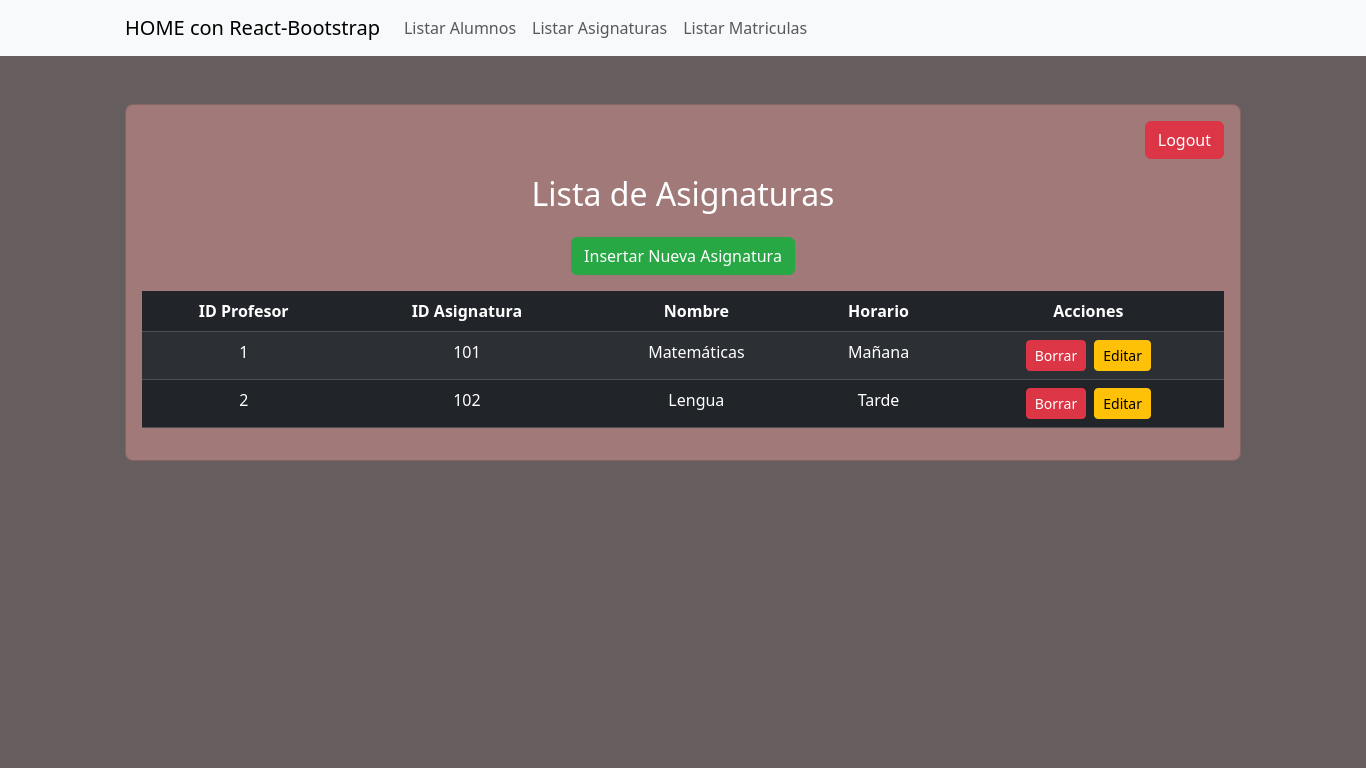
Test case: Asignaturas › permite cancelar el formulario de inserción
Click the button "Insertar Nueva Asignatura".
click(683, 256)  # box left=571, top=237, right=795, bottom=275
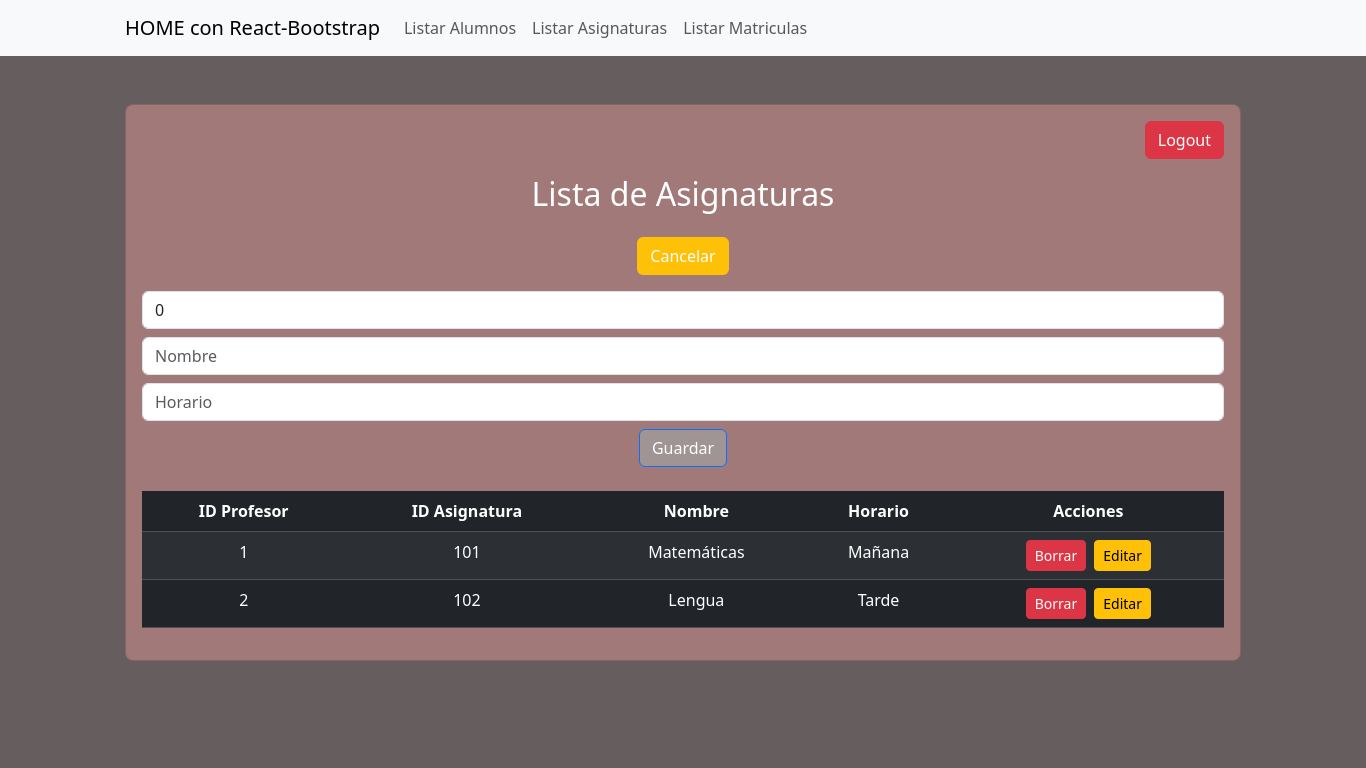
Click the button "Cancelar".
click(683, 256)  # box left=637, top=237, right=728, bottom=275
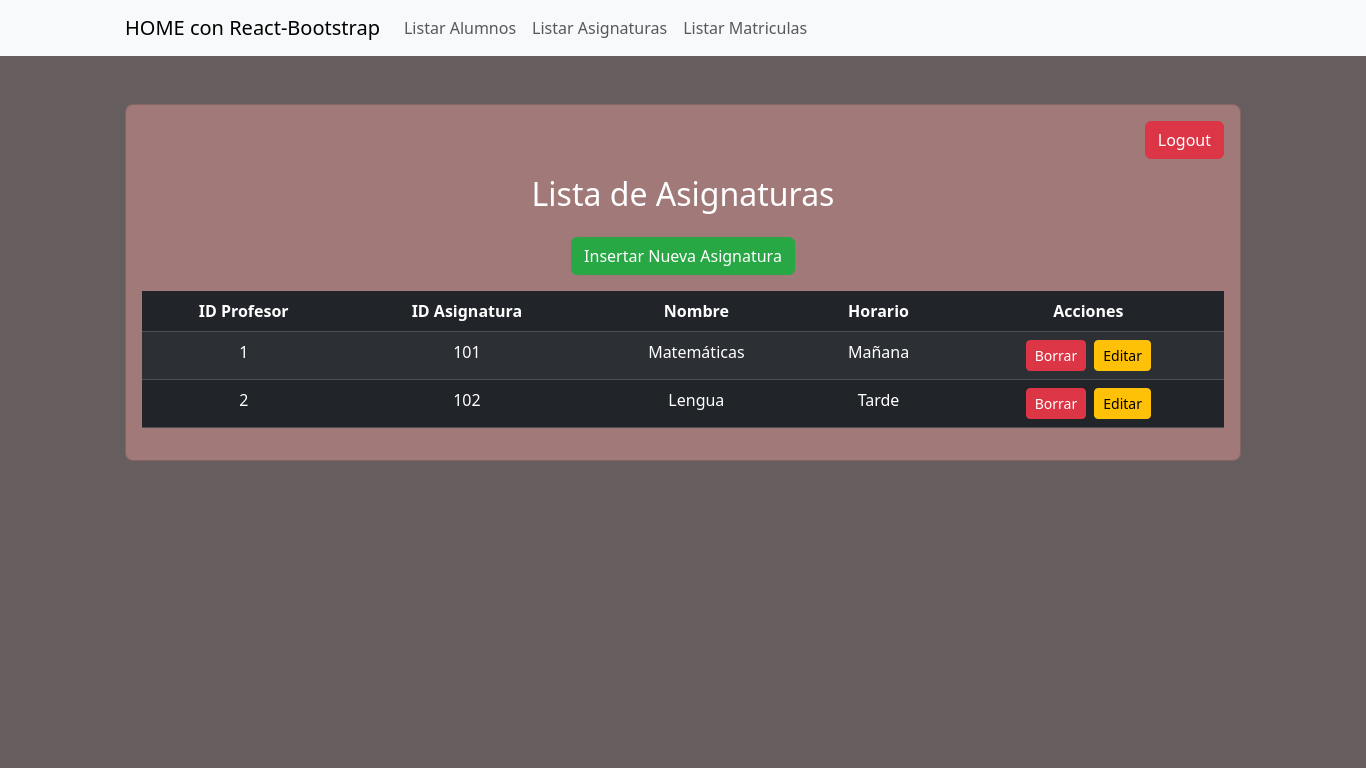
Check: the number field named "id_profesor" is gone
